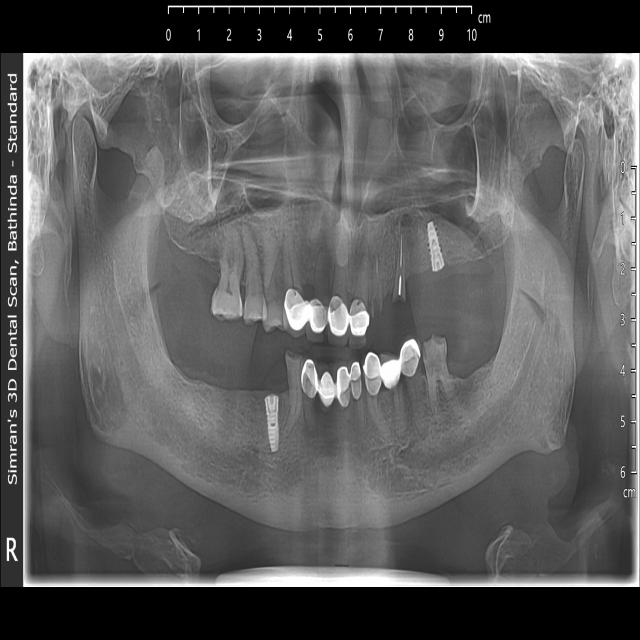Crown: (302, 354, 421, 406), (288, 292, 367, 341)
Implant: (426, 226, 445, 282), (265, 403, 280, 454)
Missing teeth: (175, 376, 260, 424), (410, 235, 429, 294), (465, 351, 490, 386)
Periapical lesion: (300, 400, 333, 457), (310, 235, 335, 283)
Root Canal Treatment: (283, 352, 307, 436), (391, 230, 408, 304)
Root Piece: (371, 250, 384, 314)
